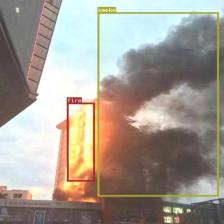fire: (66, 102, 94, 182)
smoke: (98, 12, 218, 196)
